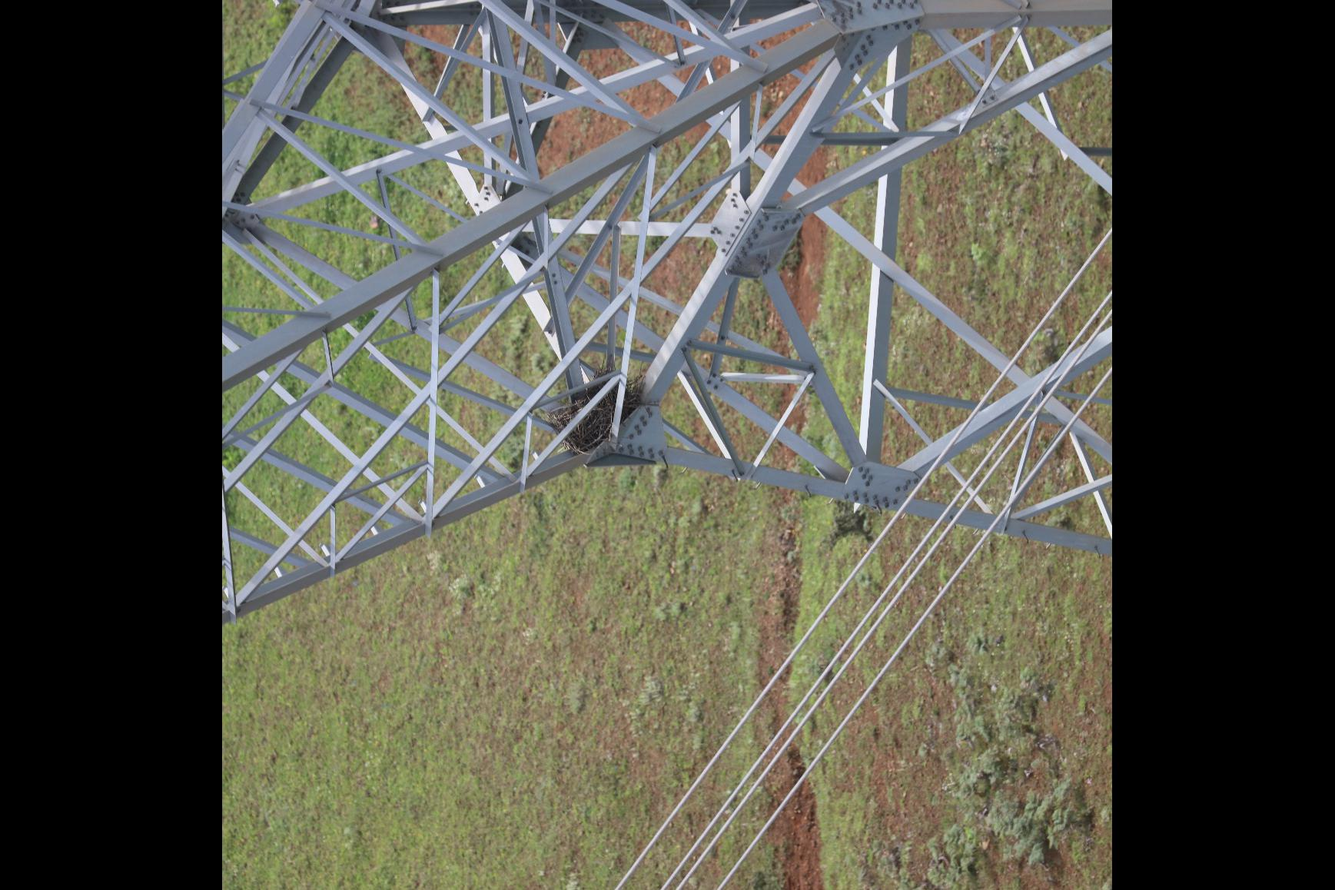nest: (552, 363, 645, 457)
